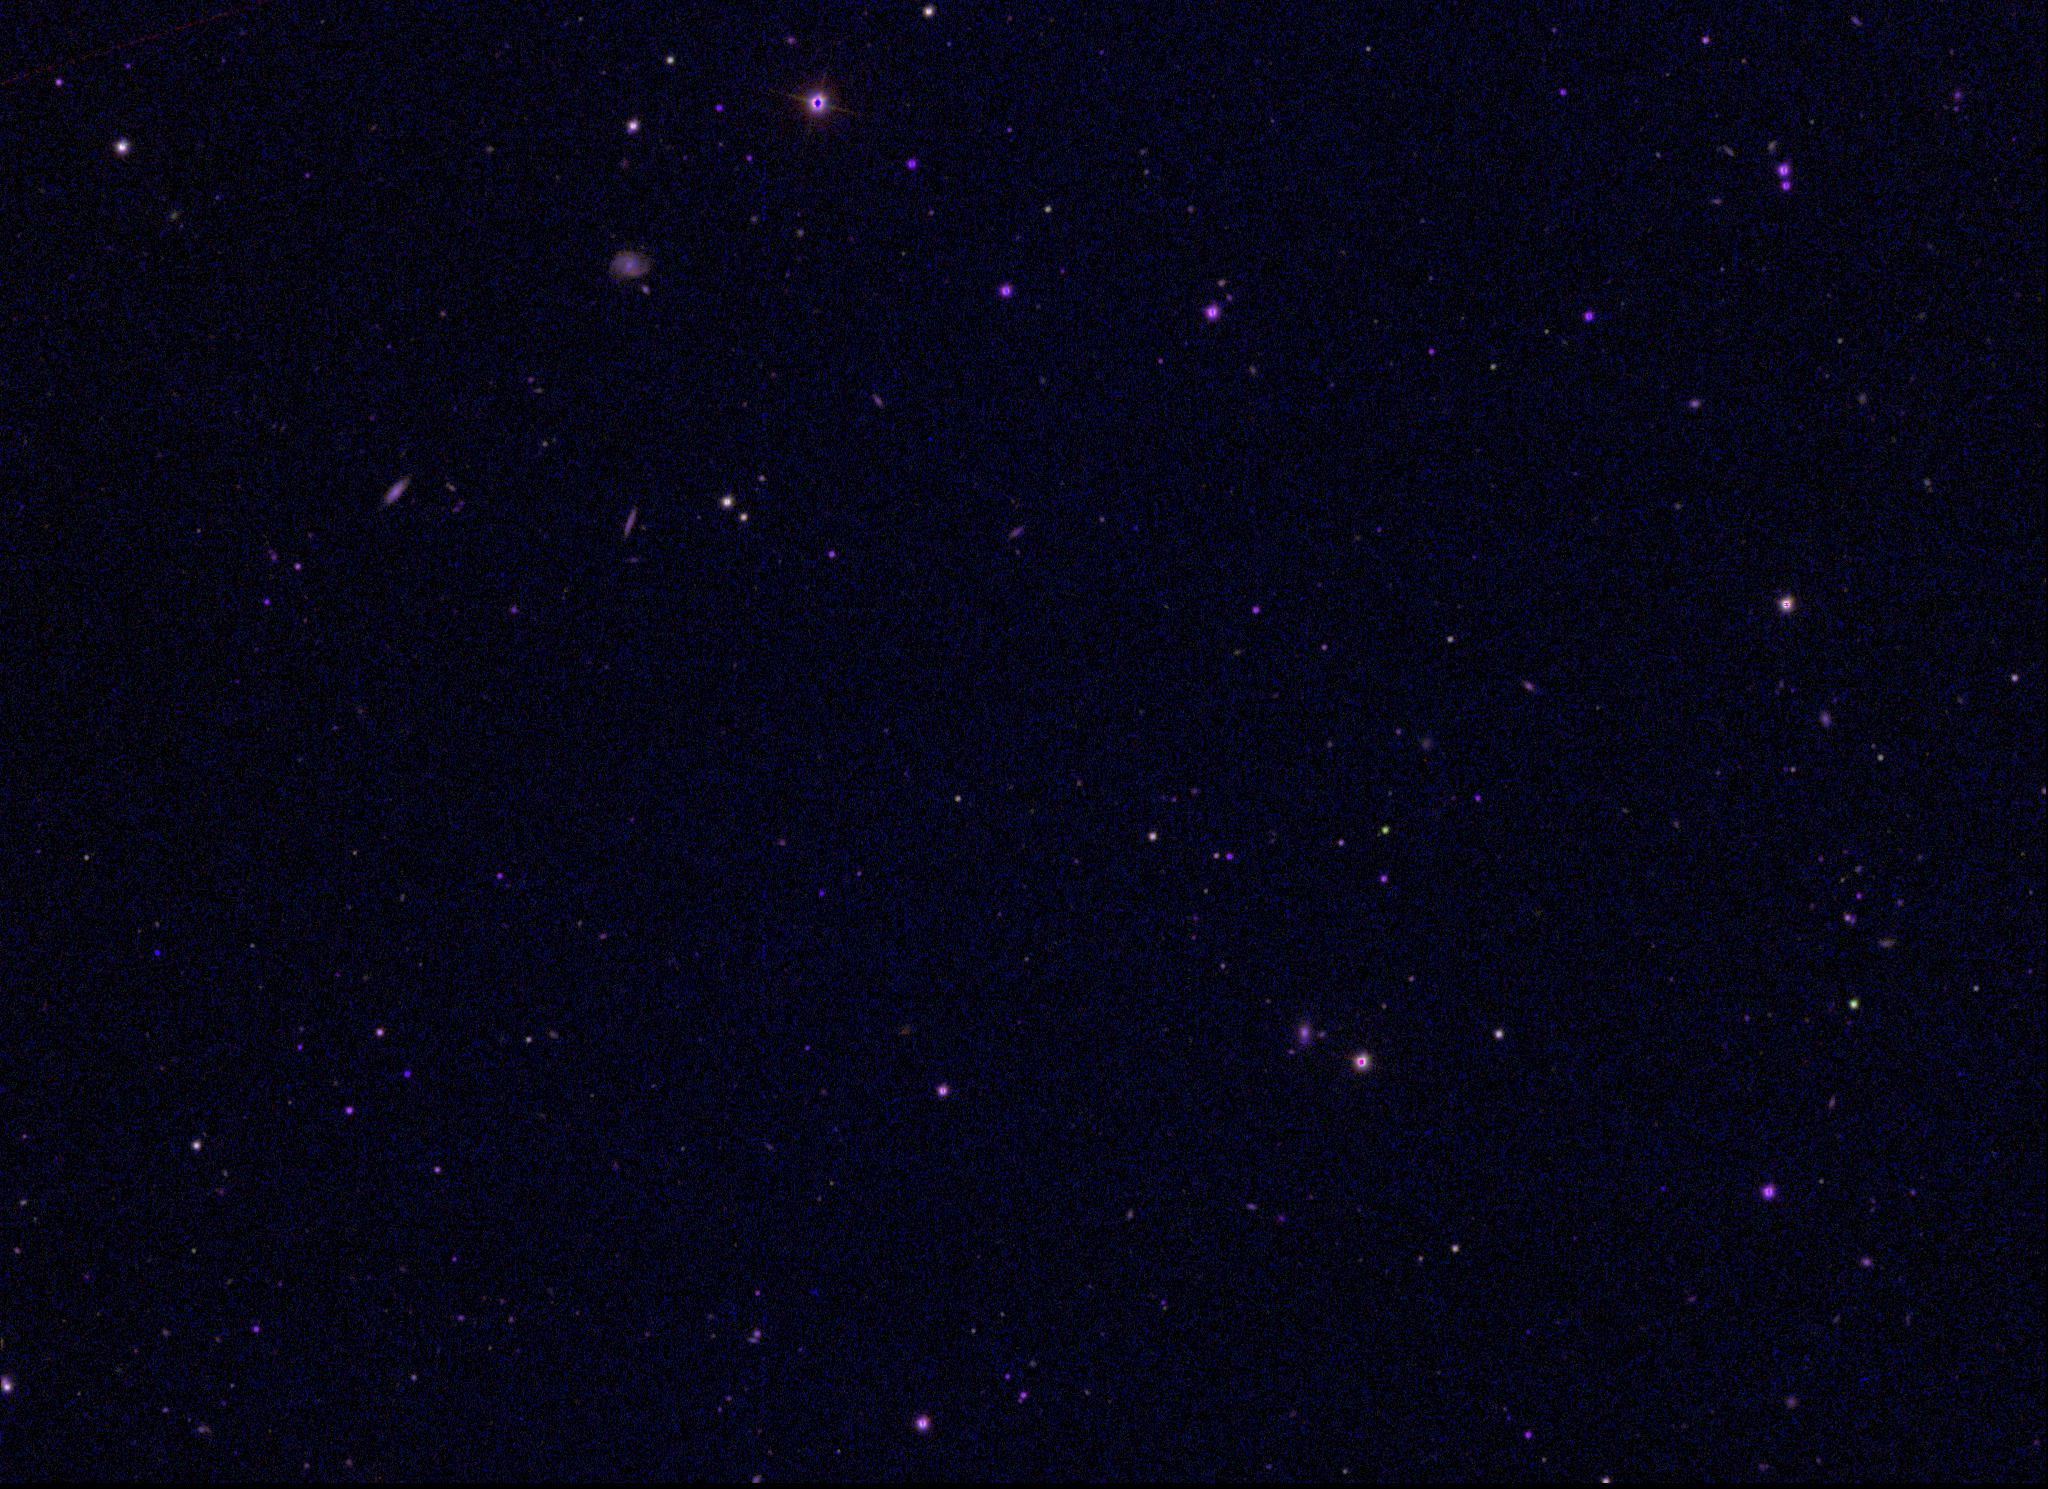L: (149, 948, 164, 962)
